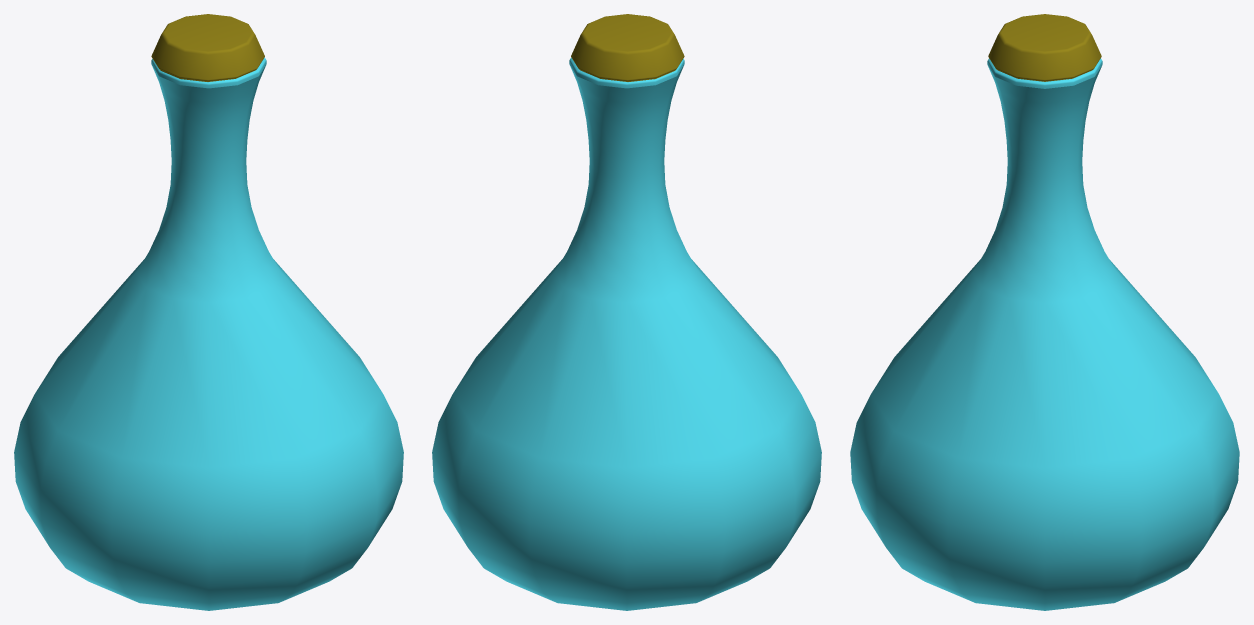
The model's file is potion02.FBX.
The picture shows the model from 3 angles, left to right: view 1: azimuth 30°, elevation 25°; view 2: azimuth 150°, elevation 25°; view 3: azimuth 270°, elevation 25°; orthographic projection.
Parts seen in each view (by area): view 1: potion_02glass; view 2: potion_02glass; view 3: potion_02glass.
Part boxes in pixels (x1,y1,x2,y2): potion_02glass: (14,14,403,610); potion_02glass: (432,14,821,610); potion_02glass: (850,14,1239,610).
Bounding box in the file's own units: 29.93 × 45.45 × 29.93.
